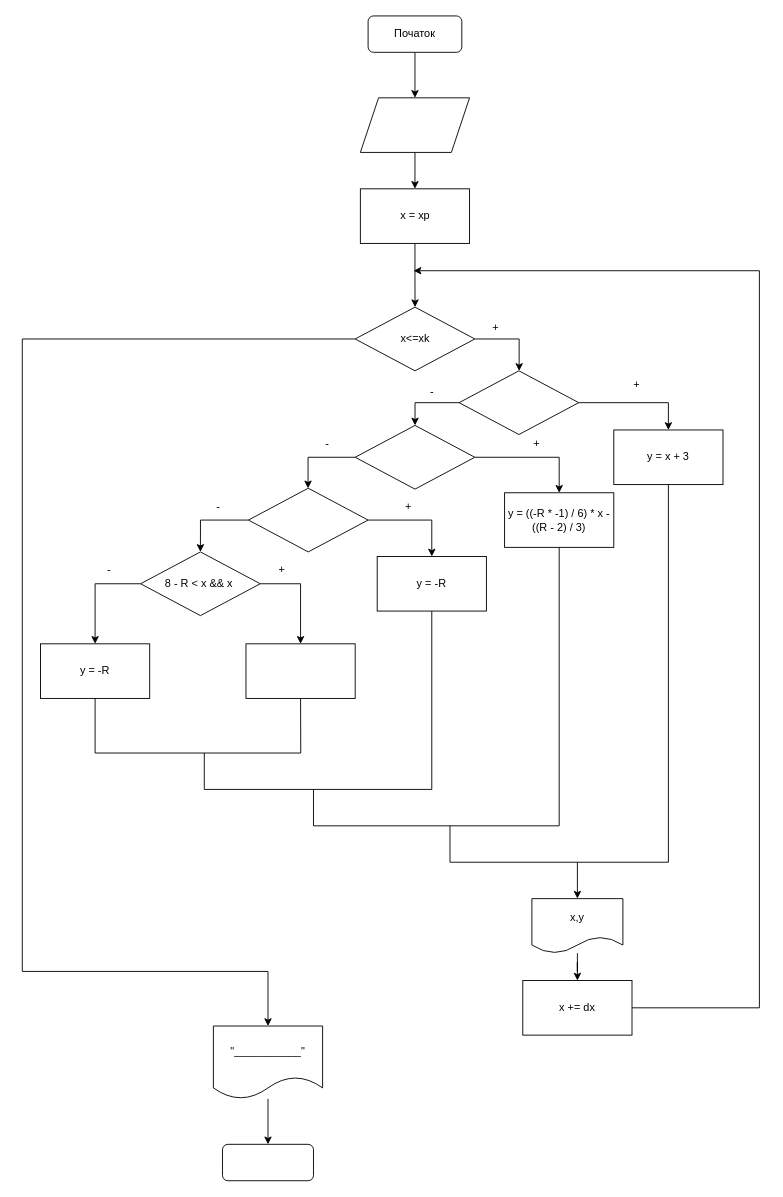
This 783x1197 diagram has some shape labels left out. Here are the shapes that lost their labels. From the top down, the centre of each, then its label:
[414,124]: R, xp, xk, dx
[518,402]: x <= -2
[414,457]: -2 < x && x <= 4
[308,519]: 4 < x && x <= 8 - R
[300,670]: y = sqrt(R * R - (x - 8) * (x - 8))
[267,1162]: Кінець
